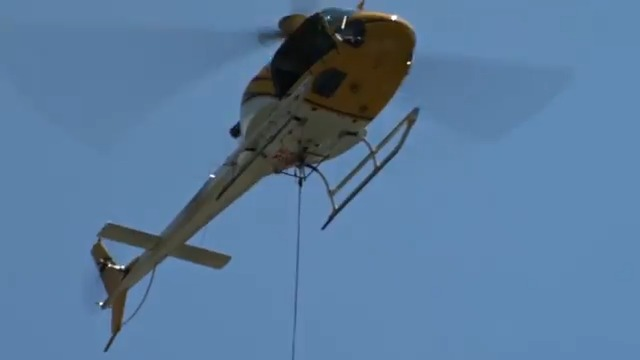helicopter: (80, 3, 424, 352)
